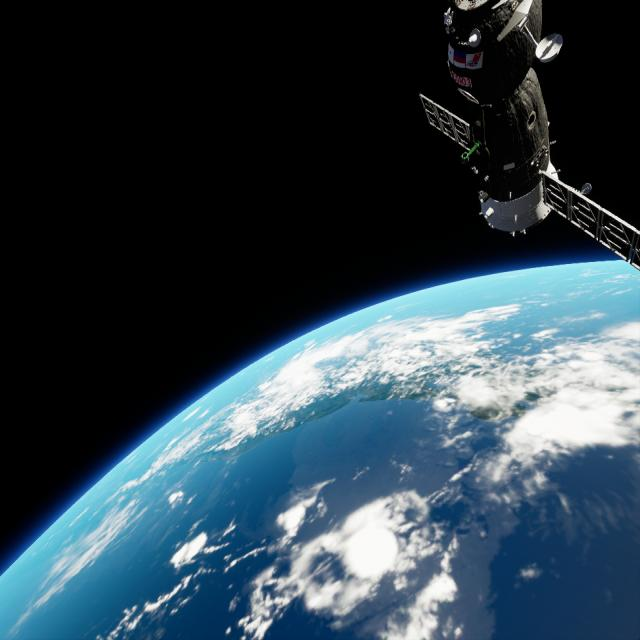Satellites revolving around earth: (1, 257, 639, 638)
